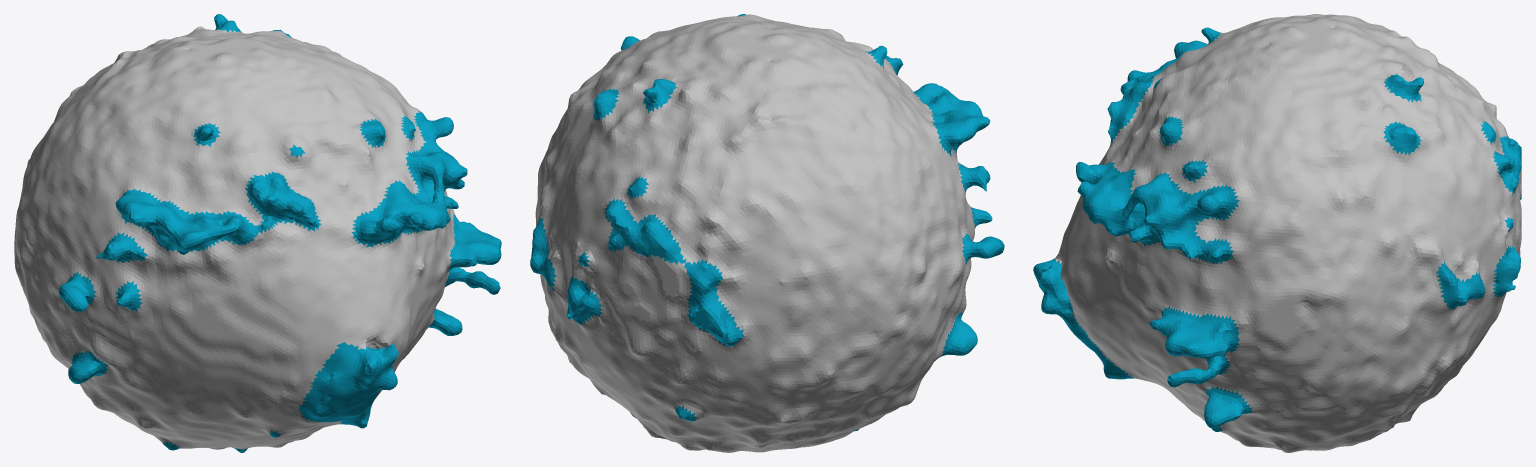
3 views of the same model, side by side, from view 1: azimuth 30°, elevation 25°; view 2: azimuth 150°, elevation 25°; view 3: azimuth 270°, elevation 25° (orthographic). The views are drawn at different scales.
Bounding box in the file's own units: 99.21 × 89.74 × 99.51.
